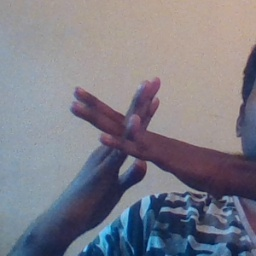W: (64, 66, 182, 195)
